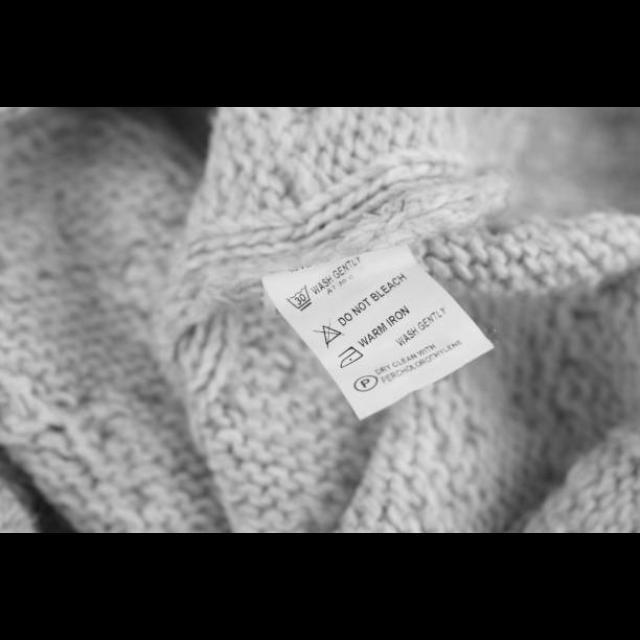30C: (282, 284, 316, 314)
DN_bleach: (311, 318, 347, 352)
iron_low: (335, 344, 365, 371)
normal_dry_clean_solvents: (352, 373, 380, 395)
